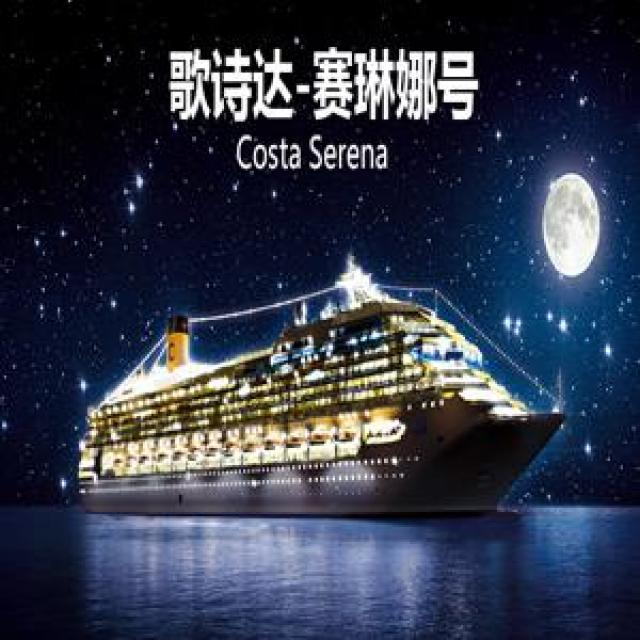passenger ship: (67, 250, 542, 520)
